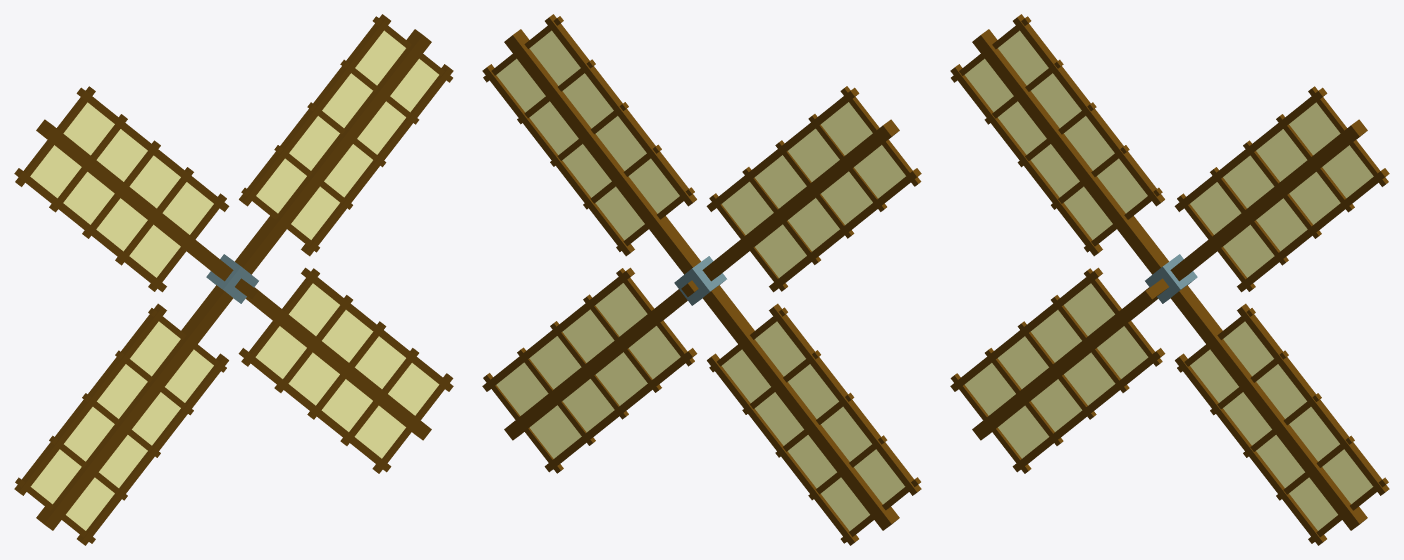
Rendered from blade.glb.
3 views of the same model, side by side, from view 1: azimuth 30°, elevation 25°; view 2: azimuth 150°, elevation 25°; view 3: azimuth 330°, elevation 25° (orthographic).
Visible parts, largest first — view 1: blade; view 2: blade; view 3: blade.
Boxes of the visible parts, left/top/right/bottom form: blade: left=14, top=14, right=453, bottom=545; blade: left=482, top=14, right=921, bottom=545; blade: left=950, top=14, right=1389, bottom=545.
Bounding box in the file's own units: 14.3 × 14.3 × 2.2.
